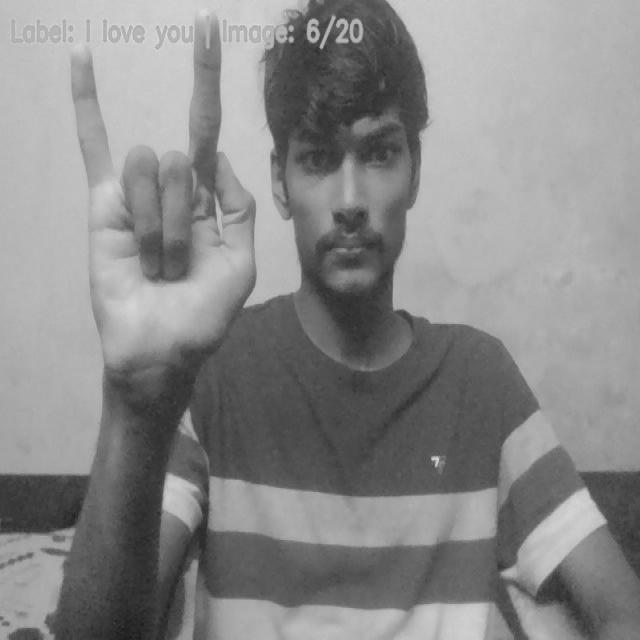I love you: (65, 12, 269, 376)
